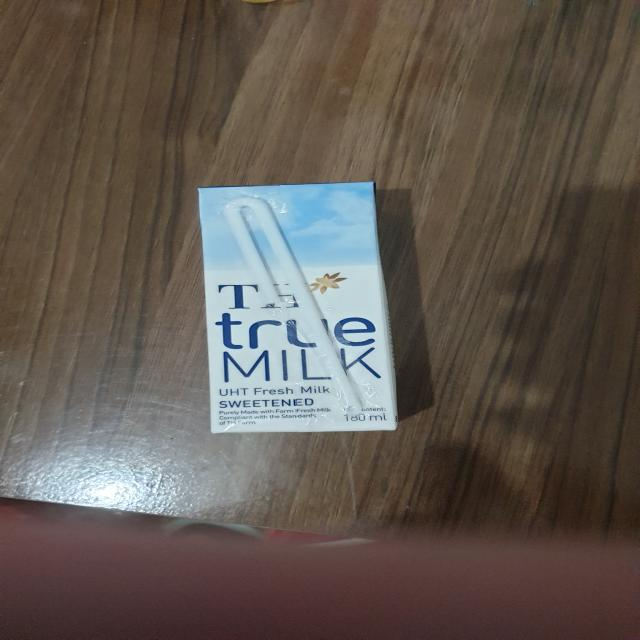TH: (190, 180, 405, 434)
